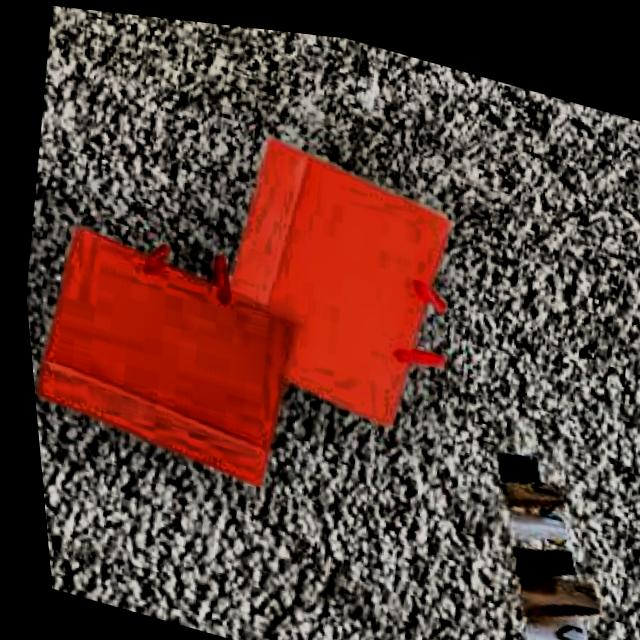Paper-bag: (184, 118, 479, 459), (14, 196, 316, 511), (440, 419, 637, 640)
